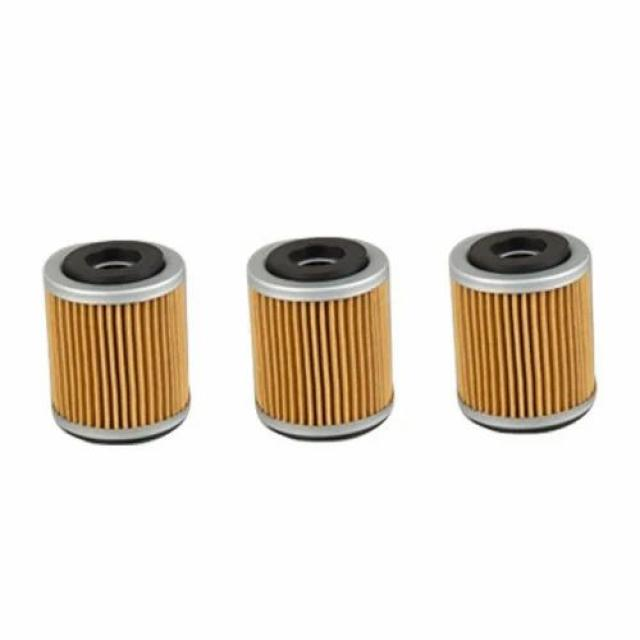oil_filter: (240, 232, 403, 446), (37, 236, 202, 447), (443, 230, 606, 440)
